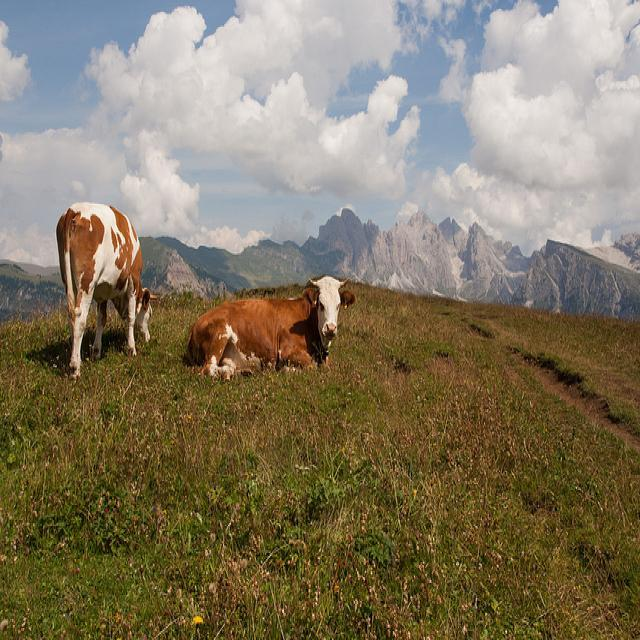cow: (54, 199, 152, 378), (185, 276, 354, 373)
